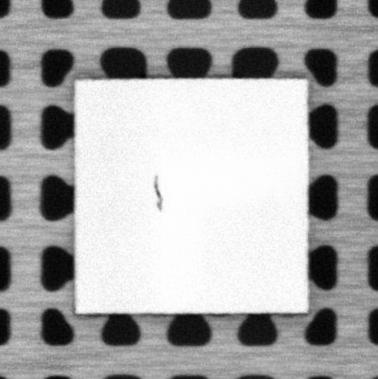DIE_INK: (154, 173, 165, 214)
